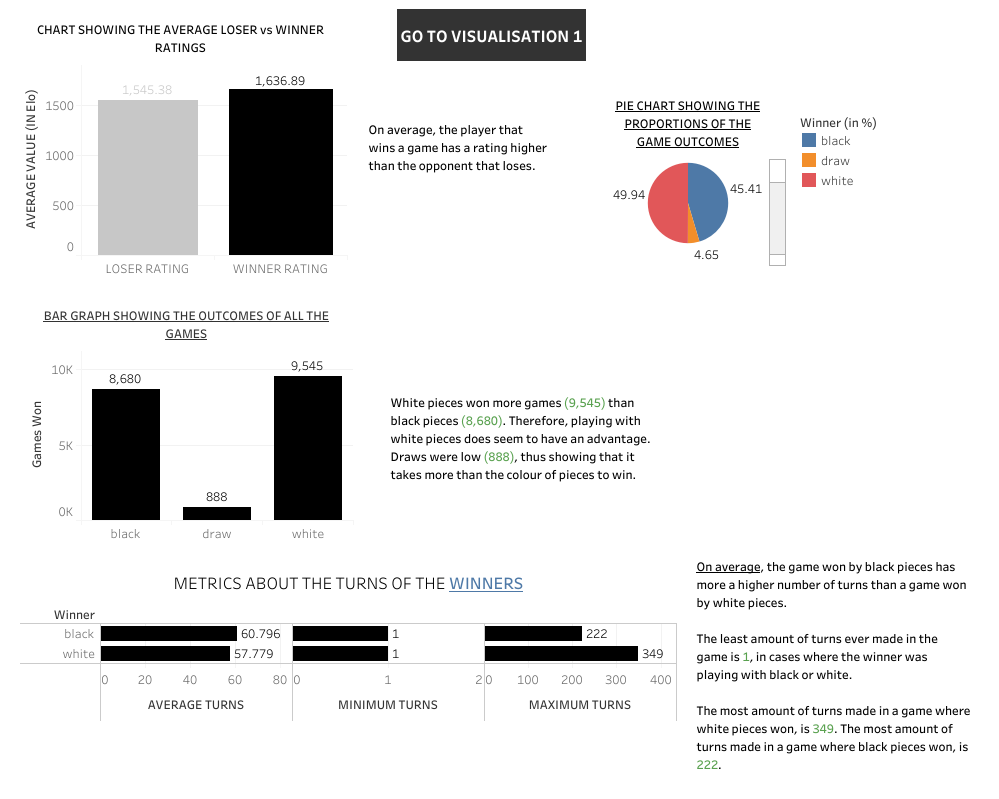

What the dashboard file says about the page in this screenshot:
{"tool":"tableau","page":{"name":"VISUALISATION 2","canvas":[1000,800],"ordinal":2},"visuals":[{"type":"dashboard-object","box":[397,9,189,52]},{"type":"worksheet","title":"Sheet 3","mark":"Automatic","box":[14,14,333,281]},{"type":"worksheet","title":"Sheet 1 (2)","mark":"Pie","box":[608,90,333,175]},{"type":"text","box":[366,99,187,95]},{"type":"legend","title":"Sheet 1 (2)","param":"[federated.0n22wwb09vqphl18ln3c21d9nxge].[none:winner:nk]","box":[799,111,140,79]},{"type":"text","box":[652,273,100,30]},{"type":"worksheet","title":"Sheet 1","mark":"Automatic","rows":["games_won"],"cols":["winner"],"box":[20,300,333,242]},{"type":"text","box":[388,379,269,118]},{"type":"text","box":[694,548,279,234]},{"type":"worksheet","title":"Sheet 5","mark":"Bar","rows":["winner"],"cols":["avg_turns","min_turns","max_turns"],"box":[20,565,658,182]}]}

Visuals, with their boxes in screenshot pixels (x1, y1, x2, y2), scaled from the page's 1000x800 canvas onto the 999x799 screenshot:
dashboard-object: [397, 9, 585, 61]
"Sheet 3" worksheet: [14, 14, 347, 295]
"Sheet 1 (2)" worksheet (Pie marks): [607, 90, 940, 265]
text: [366, 99, 552, 194]
"Sheet 1 (2)" legend: [798, 111, 938, 190]
text: [651, 273, 751, 303]
"Sheet 1" worksheet: [20, 300, 353, 541]
text: [388, 379, 656, 496]
text: [693, 547, 972, 781]
"Sheet 5" worksheet (Bar marks): [20, 564, 677, 746]
